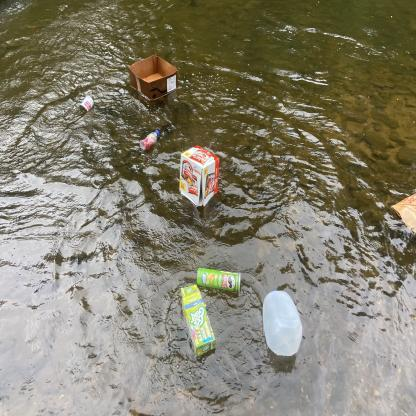trash: (259, 286, 306, 362), (178, 280, 219, 362), (176, 140, 223, 210), (126, 50, 184, 103), (192, 266, 248, 298), (389, 186, 416, 239), (136, 127, 164, 154), (76, 92, 98, 116)
